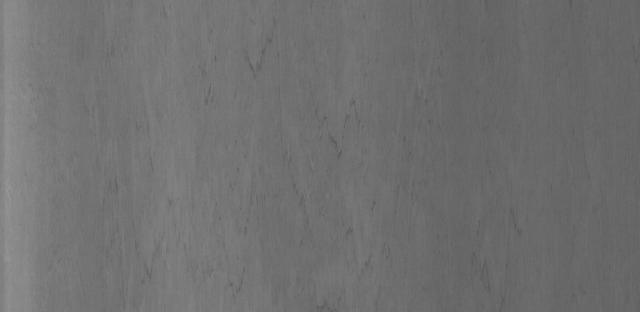silk_spot: (179, 35, 428, 304)
